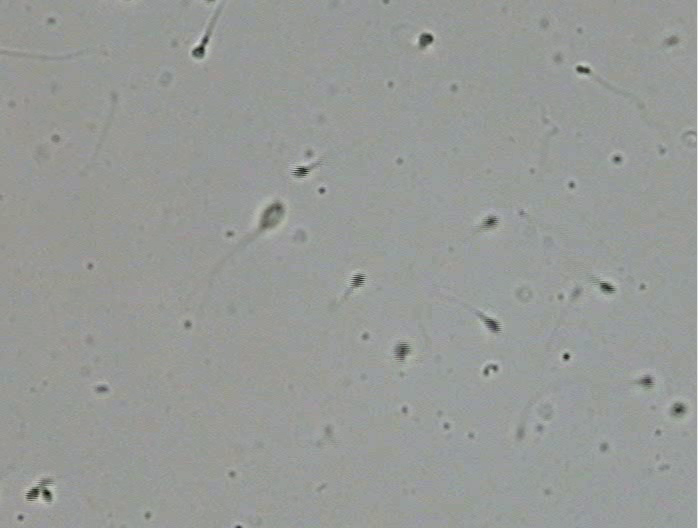S: (260, 203, 283, 229), (393, 342, 411, 361), (484, 316, 501, 333), (350, 272, 367, 288), (418, 32, 434, 47), (482, 215, 499, 229), (598, 281, 615, 295), (291, 166, 310, 178), (24, 486, 39, 501), (192, 44, 205, 59), (671, 403, 686, 416), (41, 487, 53, 503), (641, 375, 654, 388), (576, 64, 591, 74)
